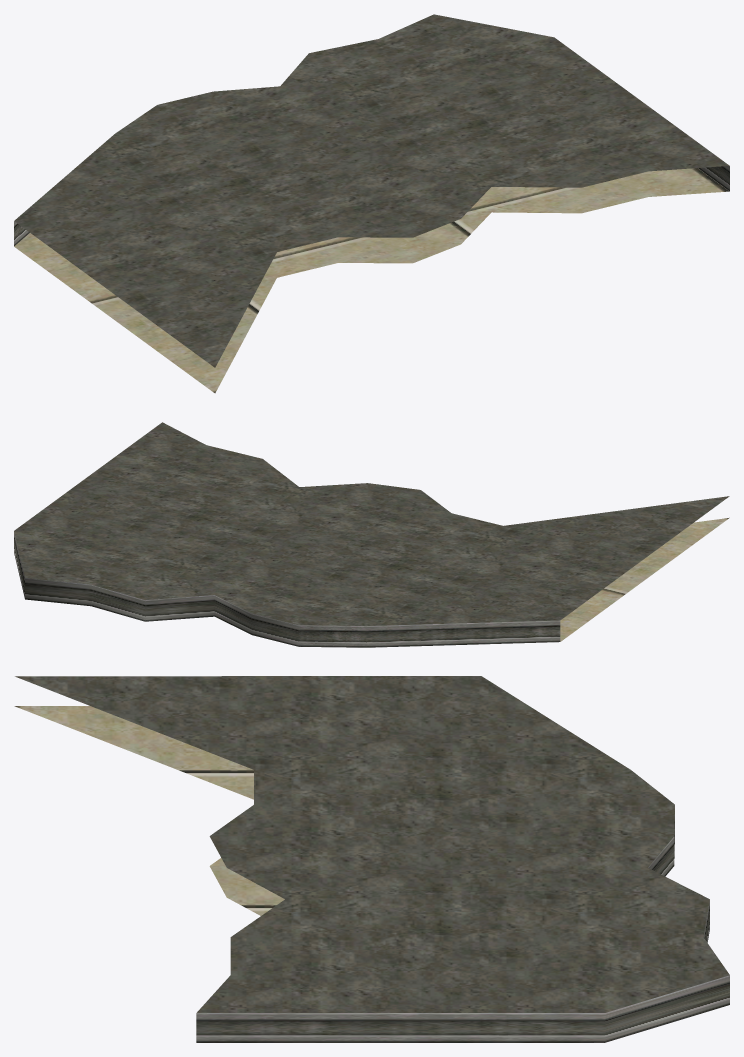
The model's file is DWARF_PALACE_MAINHALL_CAVEPLATFRM02.fbx.
3 views of the same model, one above another, from view 1: azimuth 30°, elevation 25°; view 2: azimuth 150°, elevation 25°; view 3: azimuth 270°, elevation 25° (orthographic). The views are drawn at different scales.
Parts seen in each view (by area): view 1: DWARF_PALACE_MAINHALL_CAVEPLATFRM02; view 2: DWARF_PALACE_MAINHALL_CAVEPLATFRM02; view 3: DWARF_PALACE_MAINHALL_CAVEPLATFRM02.
Boxes of the visible parts, x1,y1,x2,y2 form: DWARF_PALACE_MAINHALL_CAVEPLATFRM02: [14, 14, 729, 393]; DWARF_PALACE_MAINHALL_CAVEPLATFRM02: [14, 422, 729, 647]; DWARF_PALACE_MAINHALL_CAVEPLATFRM02: [14, 676, 729, 1042].
Bounding box in the file's own units: 121087 × 5000 × 108726.
3 materials, 3 textured.
